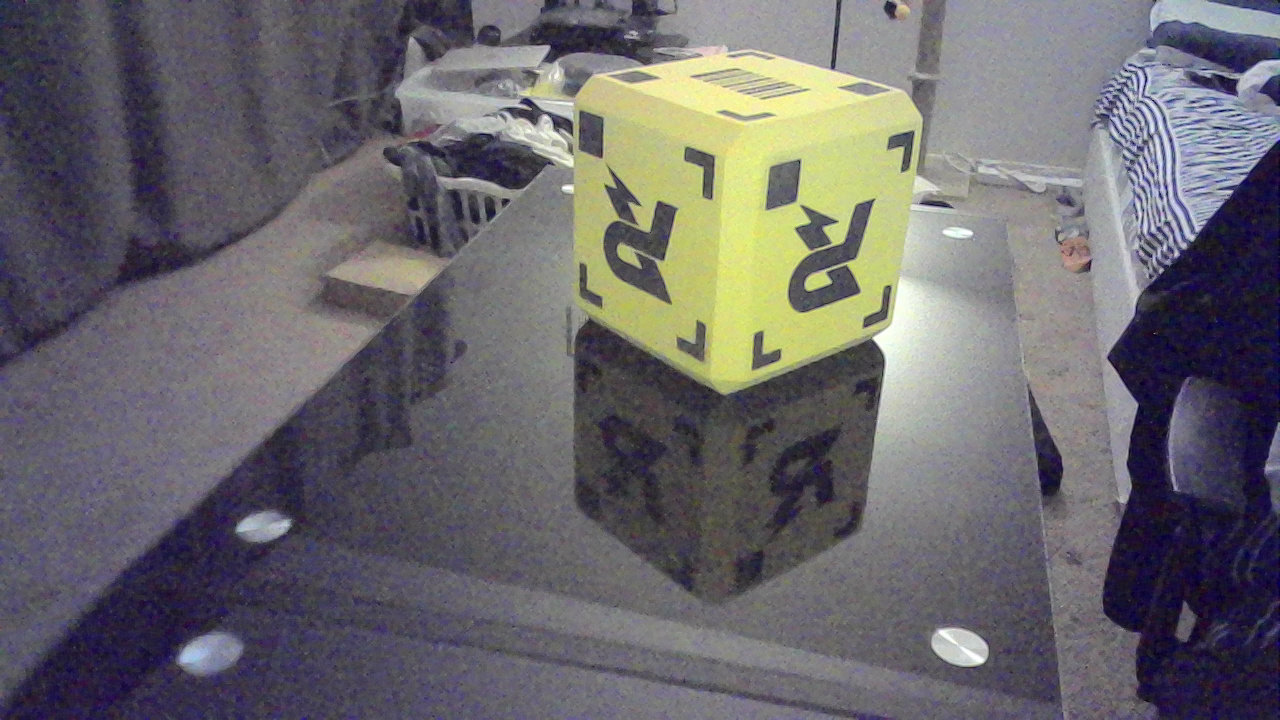Barcode: (687, 67, 826, 107)
R: (793, 202, 889, 322), (608, 175, 690, 307)
